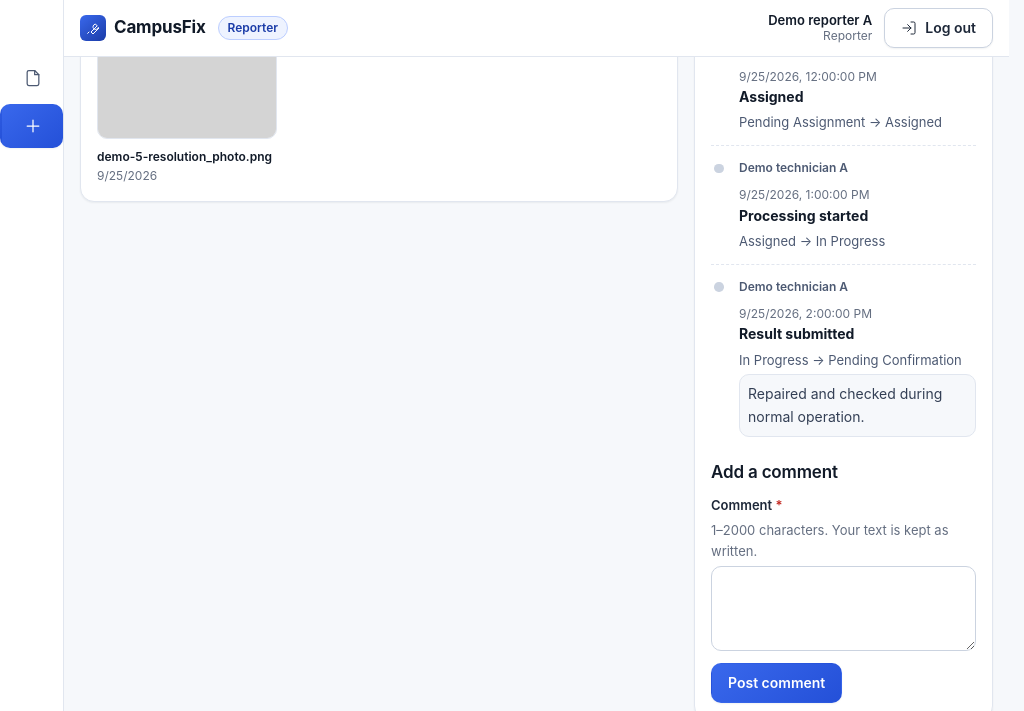
Test case: conversation on the shared detail (#54) › posts a public comment as the reporter and shows it on the timeline
(page scrolled)
In the text box labelled "Comment *": (844, 608) [711, 566, 976, 651], type "Leaving the window open for access."
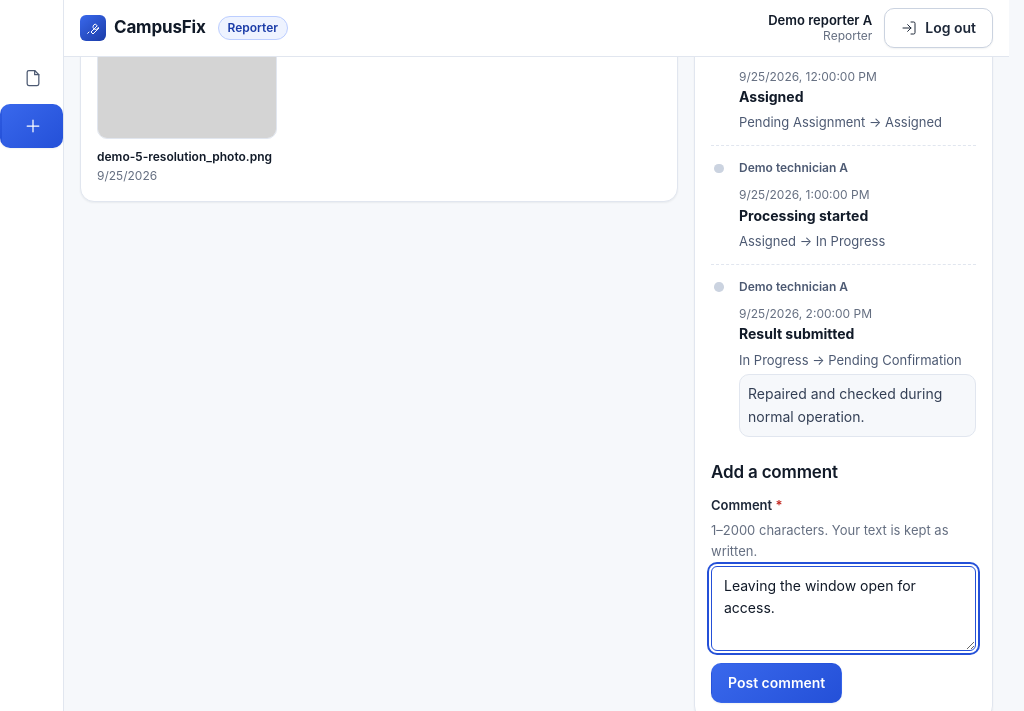
Click the button "Post comment": click(777, 683) [711, 663, 842, 703]
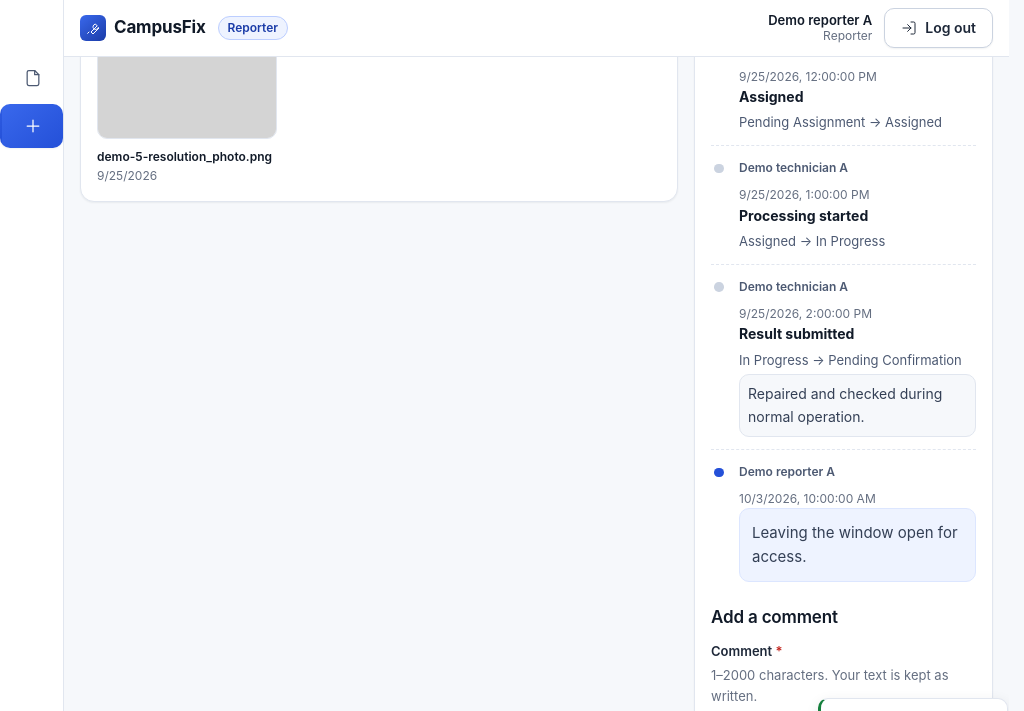
Now the text "Leaving the window open for access." is shown, box [739, 508, 976, 582]
